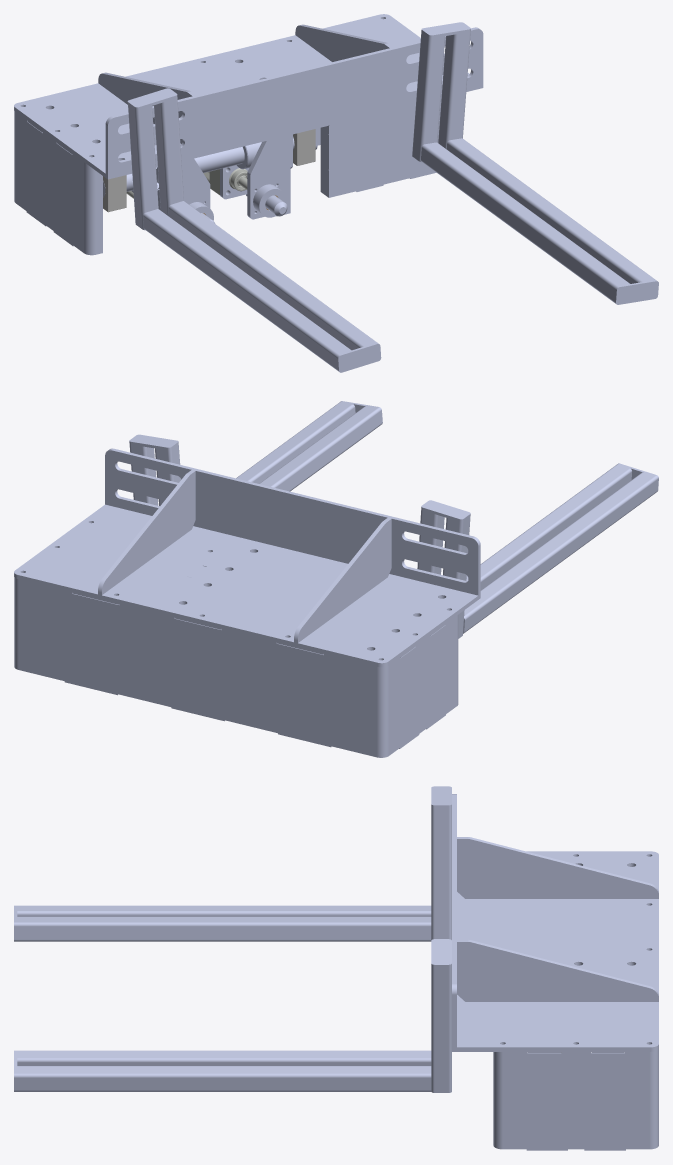
The model's file is Привод стола.glb.
The picture shows the model from 3 angles, top to bottom: view 1: azimuth 30°, elevation 25°; view 2: azimuth 150°, elevation 25°; view 3: azimuth 270°, elevation 25°; orthographic projection. The views are drawn at different scales.
Parts seen in each view (by area): view 1: 65.03.00.104 ÃÃ«Ã¨Ã²Ã _00, 65.03.00.406 ÃÃ¨Ã±Ã²_00, 65.03.00.101 ÃÃ«Ã¨Ã²Ã _00, 65.03.50.003 ÃÃ°Ã³Ã¡Ã 25Ãµ25Ãµ3 ÃÃÃÃ 8639-82 L=500_003, 65.03.50.003 ÃÃ°Ã³Ã¡Ã 25Ãµ25Ãµ3 ÃÃÃÃ 8639-82 L=500_001, 65.03.50.003 ÃÃ°Ã³Ã¡Ã 25Ãµ25Ãµ3 ÃÃÃÃ 8639-82 L=500_002, 65.03.50.003 ÃÃ°Ã³Ã¡Ã 25Ãµ25Ãµ3 ÃÃÃÃ 8639-82 L=500_00, 65.03.50.002 ÃÃ°Ã³Ã¡Ã 25Ãµ25Ãµ3 ÃÃÃÃ 8639-82 L=170_001, 65.03.50.002 ÃÃ°Ã³Ã¡Ã 25Ãµ25Ãµ3 ÃÃÃÃ 8639-82 L=170_00, 65.03.50.002 ÃÃ°Ã³Ã¡Ã 25Ãµ25Ãµ3 ÃÃÃÃ 8639-82 L=170_003, 65.03.50.002 ÃÃ°Ã³Ã¡Ã 25Ãµ25Ãµ3 ÃÃÃÃ 8639-82 L=170_002, 65.03.00.206 ÃÃ«Ã Ã±Ã²Ã¨ÃÃ _00 (+13 smaller); view 2: 65.03.00.406 ÃÃ¨Ã±Ã²_00, 65.03.00.101 ÃÃ«Ã¨Ã²Ã _00, 65.03.00.104 ÃÃ«Ã¨Ã²Ã _00, 65.03.50.003 ÃÃ°Ã³Ã¡Ã 25Ãµ25Ãµ3 ÃÃÃÃ 8639-82 L=500_003, 65.03.50.003 ÃÃ°Ã³Ã¡Ã 25Ãµ25Ãµ3 ÃÃÃÃ 8639-82 L=500_002, 65.03.00.105 ÃÃ¥Ã¡Ã°Ã®_00, 65.03.00.105 ÃÃ¥Ã¡Ã°Ã®_001, 65.03.50.003 ÃÃ°Ã³Ã¡Ã 25Ãµ25Ãµ3 ÃÃÃÃ 8639-82 L=500_001, 65.03.50.003 ÃÃ°Ã³Ã¡Ã 25Ãµ25Ãµ3 ÃÃÃÃ 8639-82 L=500_00, 65.03.50.002 ÃÃ°Ã³Ã¡Ã 25Ãµ25Ãµ3 ÃÃÃÃ 8639-82 L=170_003, 65.03.50.002 ÃÃ°Ã³Ã¡Ã 25Ãµ25Ãµ3 ÃÃÃÃ 8639-82 L=170_002, 65.03.50.002 ÃÃ°Ã³Ã¡Ã 25Ãµ25Ãµ3 ÃÃÃÃ 8639-82 L=170_00 (+3 smaller); view 3: 65.03.00.101 ÃÃ«Ã¨Ã²Ã _00, 65.03.00.406 ÃÃ¨Ã±Ã²_00, 65.03.50.003 ÃÃ°Ã³Ã¡Ã 25Ãµ25Ãµ3 ÃÃÃÃ 8639-82 L=500_00, 65.03.50.003 ÃÃ°Ã³Ã¡Ã 25Ãµ25Ãµ3 ÃÃÃÃ 8639-82 L=500_002, 65.03.00.105 ÃÃ¥Ã¡Ã°Ã®_001, 65.03.00.105 ÃÃ¥Ã¡Ã°Ã®_00, 65.03.50.003 ÃÃ°Ã³Ã¡Ã 25Ãµ25Ãµ3 ÃÃÃÃ 8639-82 L=500_001, 65.03.50.003 ÃÃ°Ã³Ã¡Ã 25Ãµ25Ãµ3 ÃÃÃÃ 8639-82 L=500_003, 65.03.50.002 ÃÃ°Ã³Ã¡Ã 25Ãµ25Ãµ3 ÃÃÃÃ 8639-82 L=170_002, 65.03.50.002 ÃÃ°Ã³Ã¡Ã 25Ãµ25Ãµ3 ÃÃÃÃ 8639-82 L=170_00, 65.03.00.104 ÃÃ«Ã¨Ã²Ã _00, 65.03.50.001 ÃÃ ÃªÃ«Ã Ã¤ÃªÃ _00.
Boxes of the visible parts, bbox=[...] form: 65.03.00.104 ÃÃ«Ã¨Ã²Ã _00: bbox=[105, 27, 483, 175]; 65.03.00.406 ÃÃ¨Ã±Ã²_00: bbox=[14, 98, 441, 255]; 65.03.00.101 ÃÃ«Ã¨Ã²Ã _00: bbox=[14, 14, 483, 179]; 65.03.50.003 ÃÃ°Ã³Ã¡Ã 25Ãµ25Ãµ3 ÃÃÃÃ 8639-82 L=500_003: bbox=[143, 209, 351, 370]; 65.03.50.003 ÃÃ°Ã³Ã¡Ã 25Ãµ25Ãµ3 ÃÃÃÃ 8639-82 L=500_001: bbox=[421, 142, 629, 302]; 65.03.50.003 ÃÃ°Ã³Ã¡Ã 25Ãµ25Ãµ3 ÃÃÃÃ 8639-82 L=500_002: bbox=[168, 201, 377, 350]; 65.03.50.003 ÃÃ°Ã³Ã¡Ã 25Ãµ25Ãµ3 ÃÃÃÃ 8639-82 L=500_00: bbox=[446, 138, 655, 283]; 65.03.50.002 ÃÃ°Ã³Ã¡Ã 25Ãµ25Ãµ3 ÃÃÃÃ 8639-82 L=170_001: bbox=[412, 32, 445, 158]; 65.03.50.002 ÃÃ°Ã³Ã¡Ã 25Ãµ25Ãµ3 ÃÃÃÃ 8639-82 L=170_00: bbox=[438, 32, 470, 148]; 65.03.50.002 ÃÃ°Ã³Ã¡Ã 25Ãµ25Ãµ3 ÃÃÃÃ 8639-82 L=170_003: bbox=[128, 105, 158, 227]; 65.03.50.002 ÃÃ°Ã³Ã¡Ã 25Ãµ25Ãµ3 ÃÃÃÃ 8639-82 L=170_002: bbox=[154, 97, 183, 216]; 65.03.00.206 ÃÃ«Ã Ã±Ã²Ã¨ÃÃ _00: bbox=[247, 136, 290, 219]; 65.03.00.406 ÃÃ¨Ã±Ã²_00: bbox=[14, 577, 458, 757]; 65.03.00.101 ÃÃ«Ã¨Ã²Ã _00: bbox=[14, 504, 480, 667]; 65.03.00.104 ÃÃ«Ã¨Ã²Ã _00: bbox=[105, 448, 480, 595]; 65.03.50.003 ÃÃ°Ã³Ã¡Ã 25Ãµ25Ãµ3 ÃÃÃÃ 8639-82 L=500_003: bbox=[463, 472, 657, 633]; 65.03.50.003 ÃÃ°Ã³Ã¡Ã 25Ãµ25Ãµ3 ÃÃÃÃ 8639-82 L=500_002: bbox=[466, 464, 631, 590]; 65.03.00.105 ÃÃ¥Ã¡Ã°Ã®_00: bbox=[294, 518, 391, 643]; 65.03.00.105 ÃÃ¥Ã¡Ã°Ã®_001: bbox=[98, 470, 195, 595]; 65.03.50.003 ÃÃ°Ã³Ã¡Ã 25Ãµ25Ãµ3 ÃÃÃÃ 8639-82 L=500_001: bbox=[259, 406, 381, 491]; 65.03.50.003 ÃÃ°Ã³Ã¡Ã 25Ãµ25Ãµ3 ÃÃÃÃ 8639-82 L=500_00: bbox=[236, 402, 355, 483]; 65.03.50.002 ÃÃ°Ã³Ã¡Ã 25Ãµ25Ãµ3 ÃÃÃÃ 8639-82 L=170_003: bbox=[443, 517, 470, 635]; 65.03.50.002 ÃÃ°Ã³Ã¡Ã 25Ãµ25Ãµ3 ÃÃÃÃ 8639-82 L=170_002: bbox=[417, 510, 444, 574]; 65.03.50.002 ÃÃ°Ã³Ã¡Ã 25Ãµ25Ãµ3 ÃÃÃÃ 8639-82 L=170_00: bbox=[129, 444, 158, 505]; 65.03.00.101 ÃÃ«Ã¨Ã²Ã _00: bbox=[452, 851, 658, 1051]; 65.03.00.406 ÃÃ¨Ã±Ã²_00: bbox=[493, 1049, 658, 1150]; 65.03.50.003 ÃÃ°Ã³Ã¡Ã 25Ãµ25Ãµ3 ÃÃÃÃ 8639-82 L=500_00: bbox=[17, 1066, 431, 1091]; 65.03.50.003 ÃÃ°Ã³Ã¡Ã 25Ãµ25Ãµ3 ÃÃÃÃ 8639-82 L=500_002: bbox=[17, 917, 431, 941]; 65.03.00.105 ÃÃ¥Ã¡Ã°Ã®_001: bbox=[457, 939, 658, 1001]; 65.03.00.105 ÃÃ¥Ã¡Ã°Ã®_00: bbox=[457, 837, 658, 898]; 65.03.50.003 ÃÃ°Ã³Ã¡Ã 25Ãµ25Ãµ3 ÃÃÃÃ 8639-82 L=500_001: bbox=[17, 1050, 431, 1065]; 65.03.50.003 ÃÃ°Ã³Ã¡Ã 25Ãµ25Ãµ3 ÃÃÃÃ 8639-82 L=500_003: bbox=[17, 905, 431, 916]; 65.03.50.002 ÃÃ°Ã³Ã¡Ã 25Ãµ25Ãµ3 ÃÃÃÃ 8639-82 L=170_002: bbox=[431, 808, 451, 939]; 65.03.50.002 ÃÃ°Ã³Ã¡Ã 25Ãµ25Ãµ3 ÃÃÃÃ 8639-82 L=170_00: bbox=[431, 967, 451, 1090]; 65.03.00.104 ÃÃ«Ã¨Ã²Ã _00: bbox=[452, 794, 456, 1047]; 65.03.50.001 ÃÃ ÃªÃ«Ã Ã¤ÃªÃ _00: bbox=[431, 939, 451, 967].
Bounding box in the file's own units: 0.56 × 0.2412 × 0.779.
